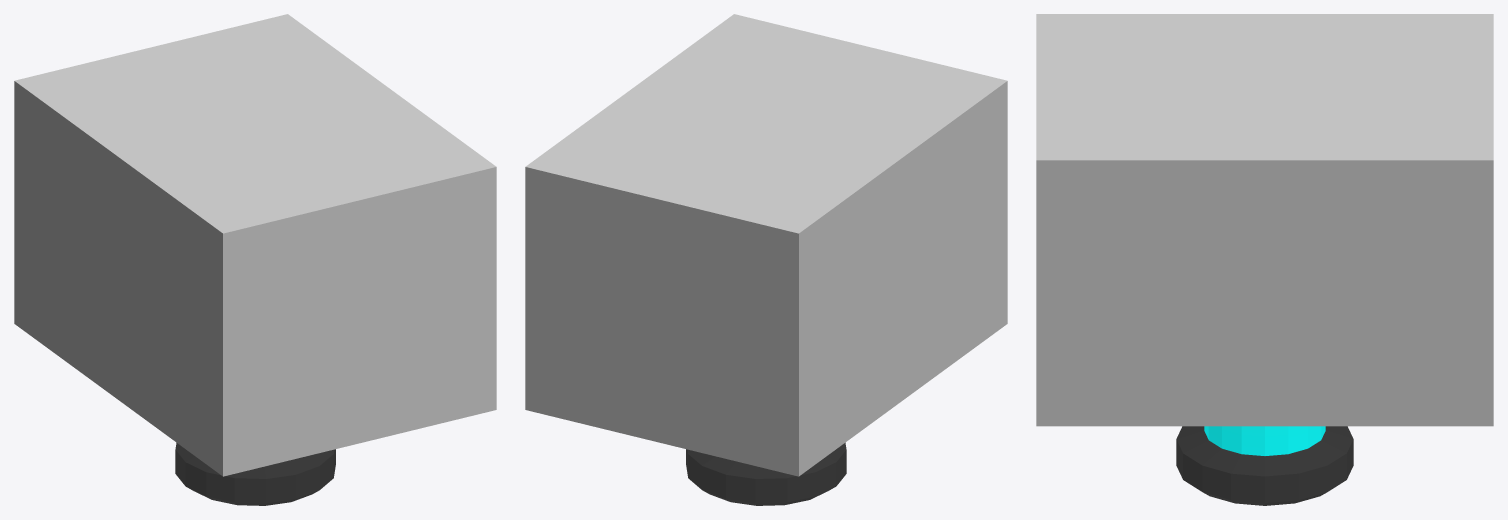
The model's file is item_fuelCell-transformed.glb.
3 views of the same model, side by side, from view 1: azimuth 30°, elevation 25°; view 2: azimuth 150°, elevation 25°; view 3: azimuth 270°, elevation 25° (orthographic). The views are drawn at different scales.
Visible parts, largest first — view 1: m, Mesh; view 2: m, Mesh; view 3: m, Mesh.
Part boxes in pixels (bbox=[...]): m: bbox=[14, 14, 496, 476]; Mesh: bbox=[175, 442, 335, 505]; m: bbox=[525, 14, 1007, 476]; Mesh: bbox=[686, 442, 846, 505]; m: bbox=[1036, 14, 1493, 426]; Mesh: bbox=[1176, 426, 1353, 505].
Bounding box in the file's own units: 3.9 × 4.8 × 5.16.
1 material, 1 textured.
